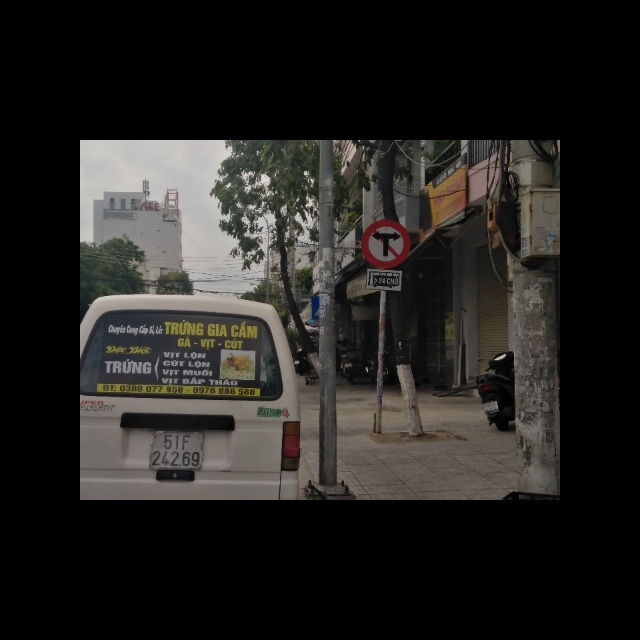Cấm rẽ trái và rẽ phải: (362, 219, 411, 268)
